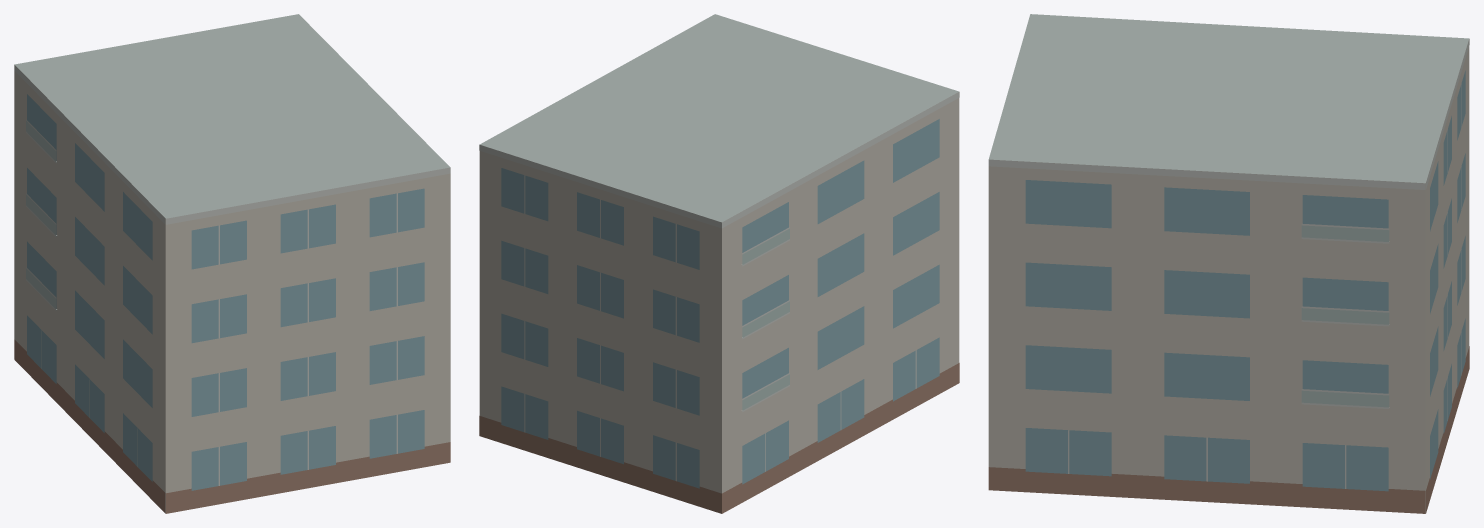
Rendered from survey-upis-32997349.glb.
The picture shows the model from 3 angles, left to right: view 1: azimuth 30°, elevation 25°; view 2: azimuth 150°, elevation 25°; view 3: azimuth 270°, elevation 25°; orthographic projection. The views are drawn at different scales.
Parts seen in each view (by area): view 1: survey-upis-32997349.tmp; view 2: survey-upis-32997349.tmp; view 3: survey-upis-32997349.tmp.
Boxes of the visible parts, bbox=[...] form: survey-upis-32997349.tmp: bbox=[14, 14, 450, 513]; survey-upis-32997349.tmp: bbox=[479, 14, 959, 513]; survey-upis-32997349.tmp: bbox=[988, 14, 1469, 513].
Size of the model in its own units: 12.94 by 11.78 by 15.53.
